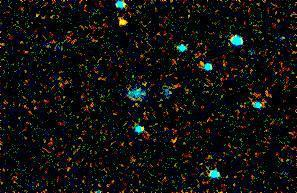star: (106, 8, 136, 38)
